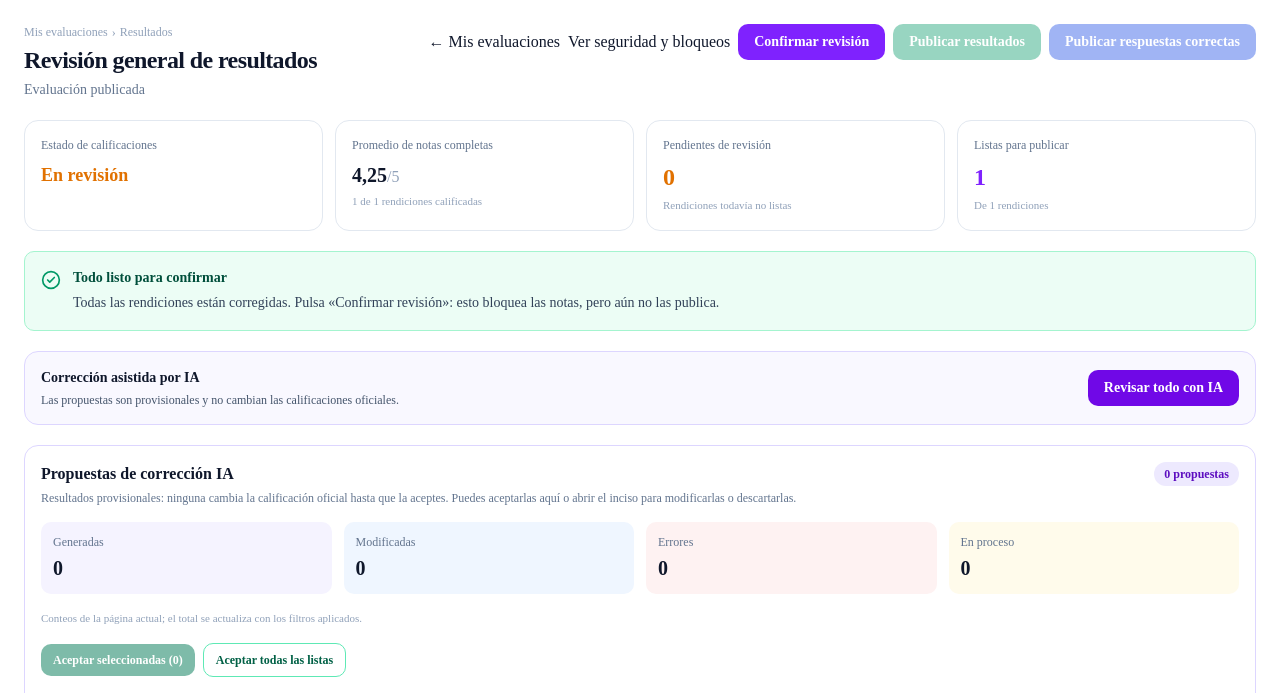
solicita el lote y muestra cuántas se omitieron y el motivo en español
Click the button "Revisar todo con IA". click: (1163, 388)
box: [1088, 370, 1239, 406]
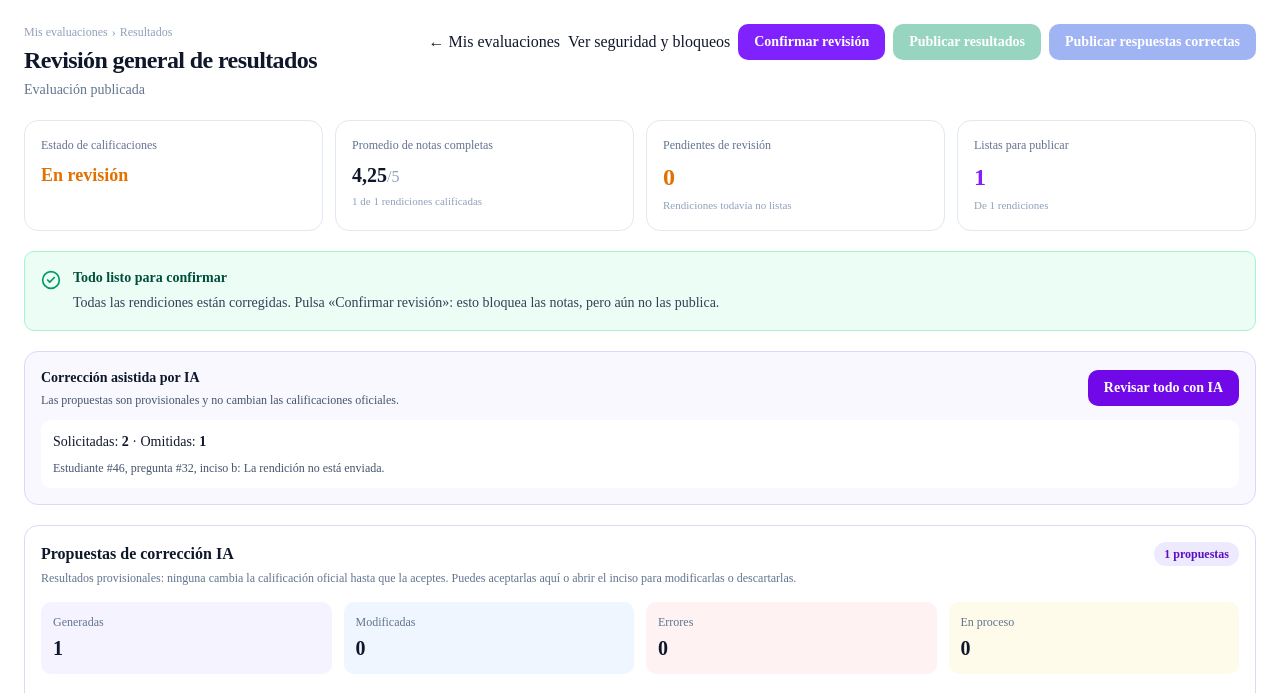
Check: the message named "Resumen de solicitudes de corrección IA" shows "Solicitadas: 2 · Omitidas: 1", box [41, 420, 1239, 488]
Check: the message named "Resumen de solicitudes de corrección IA" shows "Estudiante #46, pregunta #32, inciso b: La rendición no está enviada.", box [41, 420, 1239, 488]
